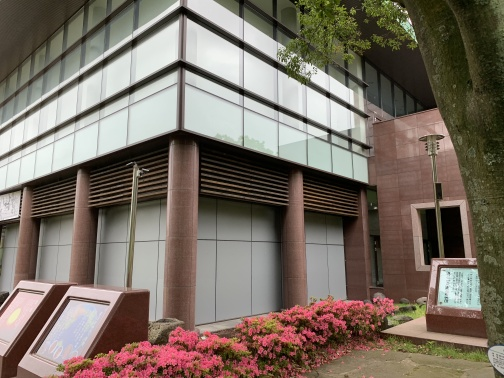Museum: (6, 14, 462, 331)
